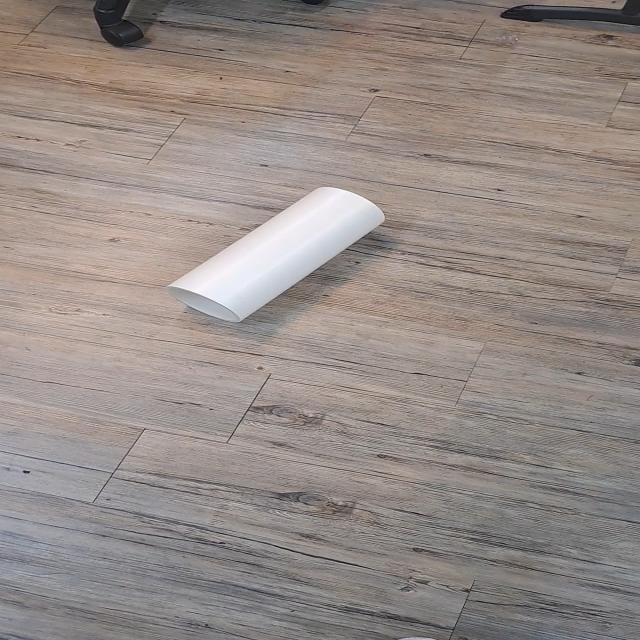CORAL: (163, 174, 404, 333)
